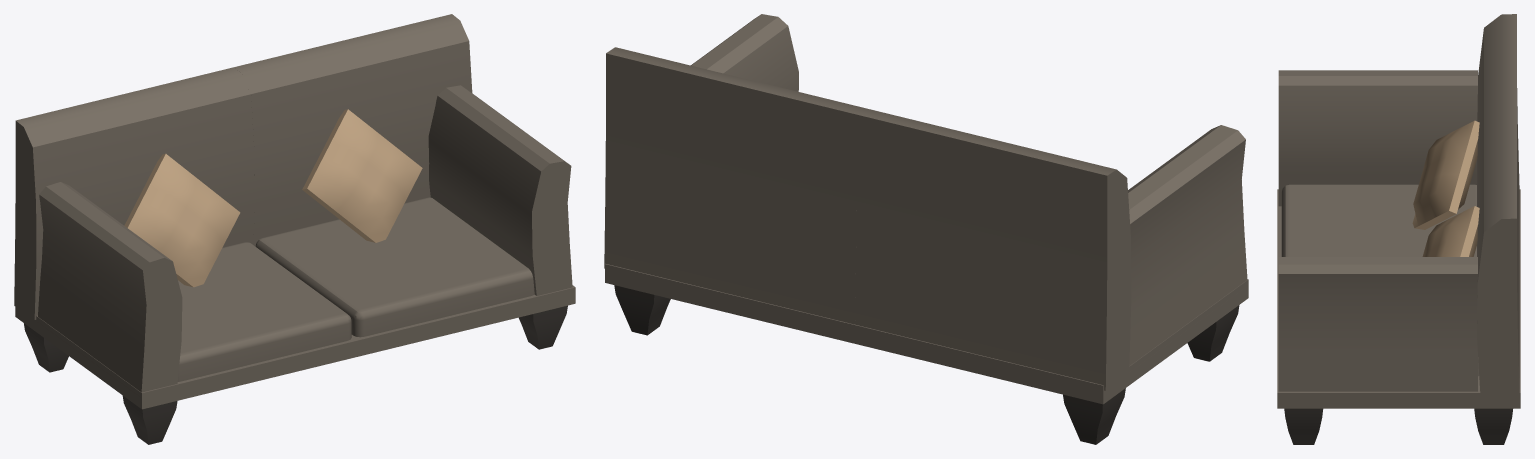
The model's file is sofa_2.fbx.
3 renders of one model, left to right at view 1: azimuth 30°, elevation 25°; view 2: azimuth 150°, elevation 25°; view 3: azimuth 270°, elevation 25°, orthographic. The views are drawn at different scales.
Visible parts, largest first — view 1: pCube54; view 2: pCube54; view 3: pCube54.
Part boxes in pixels (bbox=[...]): pCube54: bbox=[14, 14, 575, 444]; pCube54: bbox=[604, 14, 1248, 444]; pCube54: bbox=[1277, 14, 1520, 444].
Bounding box in the file's own units: 7.21 × 3.84 × 3.62.
